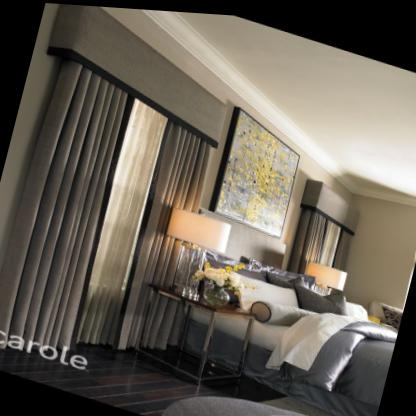Curtains: (0, 4, 231, 349)
Frame: (214, 105, 300, 235)
